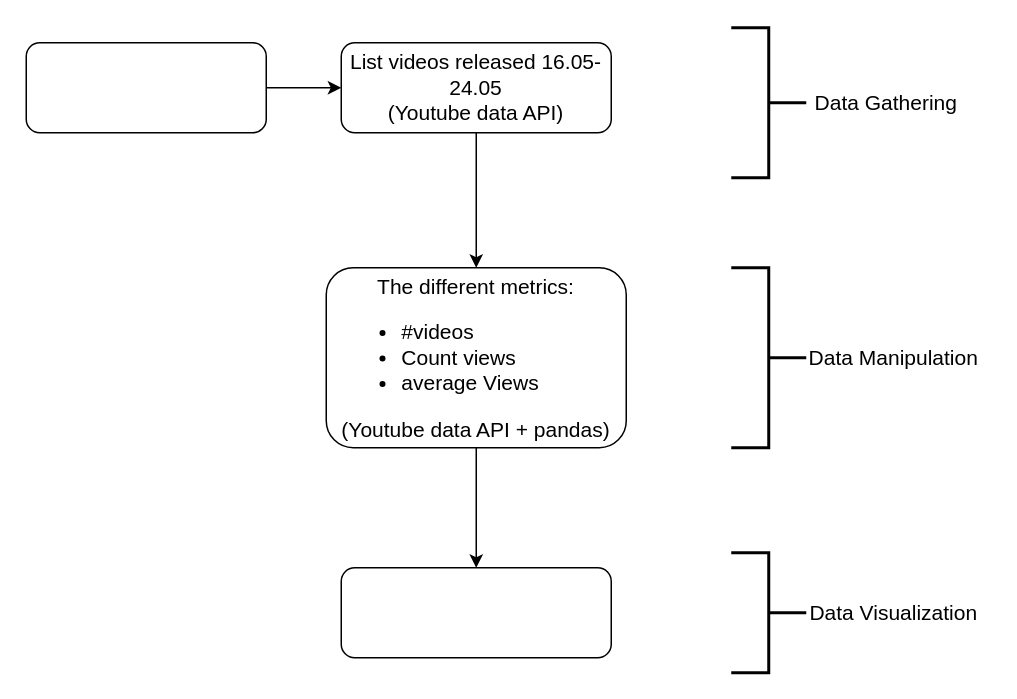
This 1017x699 diagram has some shape labels left out. The centre of each missing label's shape, as x and y in pixels:
"Gather Pint of Science Youtube channel IDs (manual)" goes at [145,87].
"Plotting the data with Tableau" goes at [475,612].
